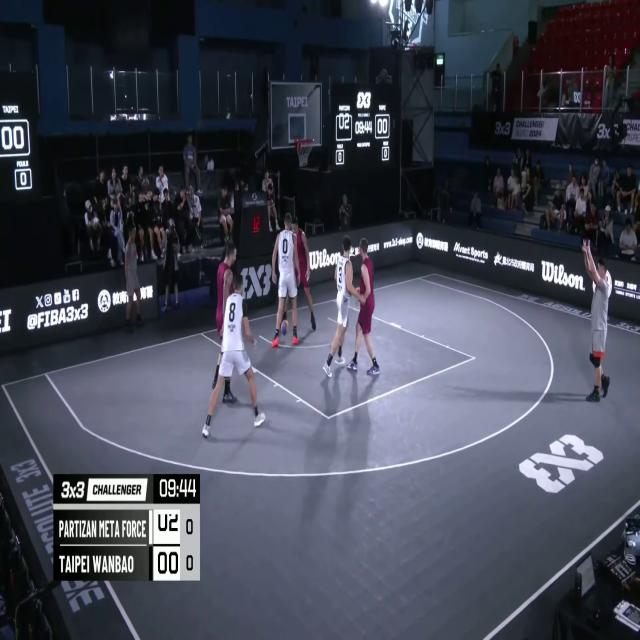ball: (280, 317, 290, 338)
hoop: (296, 137, 312, 168)
player: (201, 272, 261, 437), (211, 241, 245, 404), (323, 237, 361, 379), (348, 236, 380, 377), (271, 212, 299, 348), (289, 212, 316, 334)
